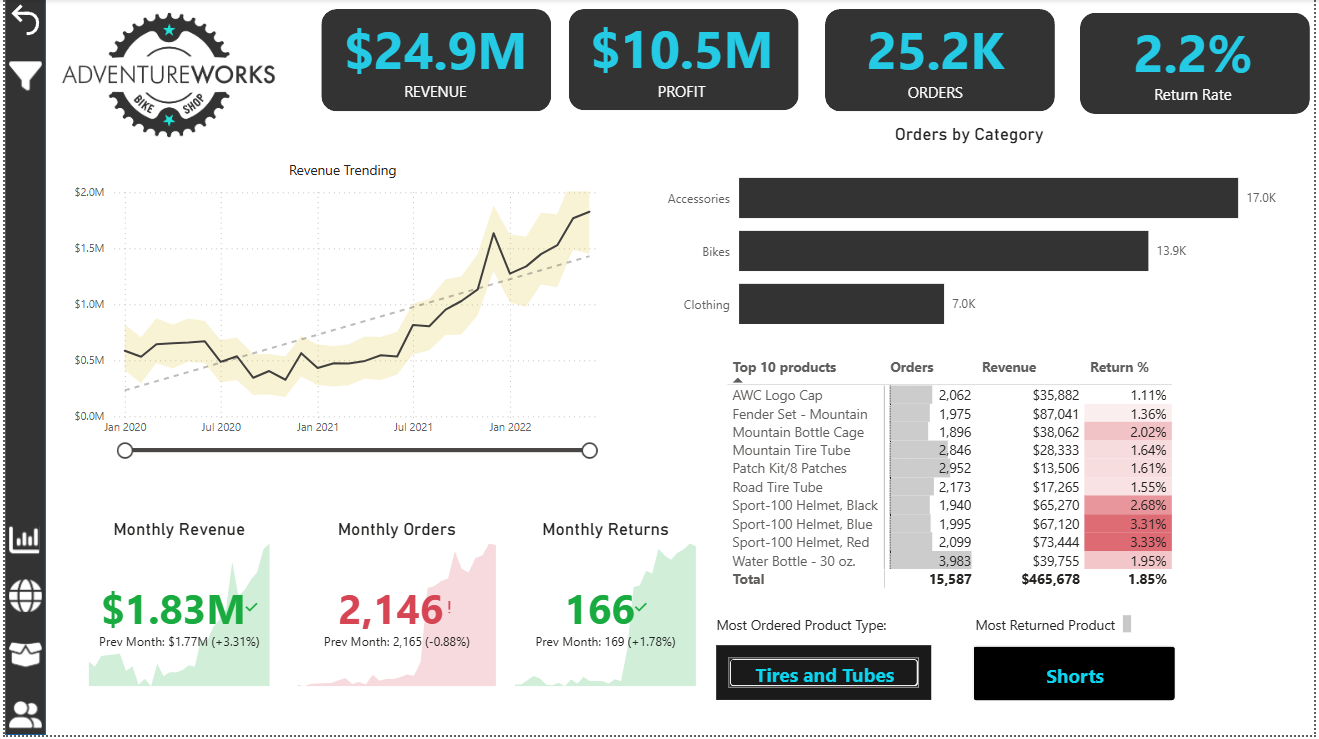

What the dashboard file says about the page in this screenshot:
{"tool":"powerbi","page":{"name":"Exec Dashboard","canvas":[1280,720],"ordinal":0},"visuals":[{"type":"image","title":"AW Logo","box":[33,0,255.6,149.2],"z":0},{"type":"shape","box":[309.6,9.4,225,100.3],"z":0,"group":"g1"},{"type":"group","id":"g1","title":"KPI Backgrounds","box":[309.6,9.4,967.3,102.7],"z":0,"group":"g3"},{"type":"card","fields":{"Values":["Measure Table.Total Revenue"]},"box":[290,10.9,262.9,91.7],"z":0,"group":"g2"},{"type":"shape","title":"Left Nav Background","box":[0,0,40,720.2],"z":1000},{"type":"shape","box":[552.3,9.4,225,99],"z":1000,"group":"g1"},{"type":"group","id":"g2","title":"KPI Values","box":[290,10.9,958.8,98.3],"z":1000,"group":"g3"},{"type":"card","fields":{"Values":["Measure Table.Total Profit"]},"box":[543.1,11,238.5,90.5],"z":1000,"group":"g2"},{"type":"shape","box":[802.1,9.4,225,100.3],"z":2000,"group":"g1"},{"type":"card","fields":{"Values":["Measure Table.Total Orders"]},"box":[787.7,12.2,245.8,90.5],"z":2000,"group":"g2"},{"type":"actionButton","box":[0,563.5,66,40.4],"z":2000},{"type":"card","fields":{"Values":["Measure Table.Return Rate"]},"box":[1076.3,11.3,172.4,97.8],"z":3000,"group":"g2"},{"type":"shape","box":[1051.8,13.3,225,99],"z":3000,"group":"g1"},{"type":"actionButton","box":[0,508.7,37.9,40.4],"z":3000},{"type":"group","id":"g3","title":"KPIs","box":[290,9.4,986.9,102.7],"z":4000},{"type":"actionButton","box":[0,620.9,66,40.4],"z":5000},{"type":"lineChart","title":"Revenue Trending","fields":{"Category":["Calendar Lookup.Start of Month"],"Y":["Measure Table.Total Revenue"]},"box":[62.4,157.7,535.6,294.7],"z":6000},{"type":"actionButton","box":[0,679.6,66,40.4],"z":7000},{"type":"kpi","title":"Monthly Revenue","fields":{"Goal":["Measure Table.Previous Month Revenue"],"Indicator":["Measure Table.Total Revenue"],"TrendLine":["Calendar Lookup.Start of Month"]},"box":[77,508.7,187.1,168.8],"z":8000},{"type":"kpi","title":"Monthly Orders","fields":{"Goal":["Measure Table.Previous Month Orders"],"Indicator":["Measure Table.Total Orders"],"TrendLine":["Calendar Lookup.Start of Month"]},"box":[281.3,508.7,204.2,168.8],"z":9000},{"type":"kpi","title":"Monthly Returns","fields":{"Goal":["Measure Table.Previous Month Returns"],"Indicator":["Measure Table.Total Returns"],"TrendLine":["Calendar Lookup.Start of Month"]},"box":[494,508.7,187.1,168.8],"z":10000},{"type":"clusteredBarChart","title":"Orders by Category","fields":{"Category":["Product Categories Lookup.CategoryName"],"Y":["Measure Table.Total Orders"]},"box":[638.3,122.3,610.2,223.8],"z":11000},{"type":"pivotTable","fields":{"Rows":["Product Lookup.ProductName"],"Values":["Measure Table.Total Orders","Measure Table.Total Revenue","Measure Table.Return Rate"]},"box":[701.9,346.1,568.6,247],"z":12000},{"type":"cardVisual","fields":{"Data":["Min(Product Subcategories Lookup.SubcategoryName)"]},"box":[690.9,627.3,220.1,63.6],"z":13000},{"type":"textbox","box":[690.9,598,181,30.6],"z":14000},{"type":"cardVisual","fields":{"Data":["Min(Product Subcategories Lookup.SubcategoryName)"]},"box":[929.4,615.1,233.6,89.3],"z":15000},{"type":"textbox","box":[944,598,162.6,31.8],"z":16000},{"type":"actionButton","box":[0,0,46.5,40.4],"z":17000},{"type":"actionButton","box":[0,55,46.5,40.4],"z":18000}]}

Visuals, with their boxes on the page's 1280x720 design canvas (x1, y1, x2, y2). These are canvas units, not pixel positions in the 1319x739 screenshot, which may show the page scaled, cropped or inside an application window:
"AW Logo" image: 33/0/289/149
shape: 310/9/535/110
"KPI Backgrounds" group: 310/9/1277/112
card - Measure Table.Total Revenue: 290/11/553/103
"Left Nav Background" shape: 0/0/40/720
shape: 552/9/777/108
"KPI Values" group: 290/11/1249/109
card - Measure Table.Total Profit: 543/11/782/102
shape: 802/9/1027/110
card - Measure Table.Total Orders: 788/12/1034/103
actionButton: 0/564/66/604
card - Measure Table.Return Rate: 1076/11/1249/109
shape: 1052/13/1277/112
actionButton: 0/509/38/549
"KPIs" group: 290/9/1277/112
actionButton: 0/621/66/661
"Revenue Trending" lineChart: 62/158/598/452
actionButton: 0/680/66/720
"Monthly Revenue" kpi: 77/509/264/678
"Monthly Orders" kpi: 281/509/486/678
"Monthly Returns" kpi: 494/509/681/678
"Orders by Category" clusteredBarChart: 638/122/1248/346
pivotTable - Product Lookup.ProductName x Measure Table.Total Orders: 702/346/1270/593
cardVisual - Min(Product Subcategories Lookup.SubcategoryName): 691/627/911/691
textbox: 691/598/872/629
cardVisual - Min(Product Subcategories Lookup.SubcategoryName): 929/615/1163/704
textbox: 944/598/1107/630
actionButton: 0/0/46/40
actionButton: 0/55/46/95
